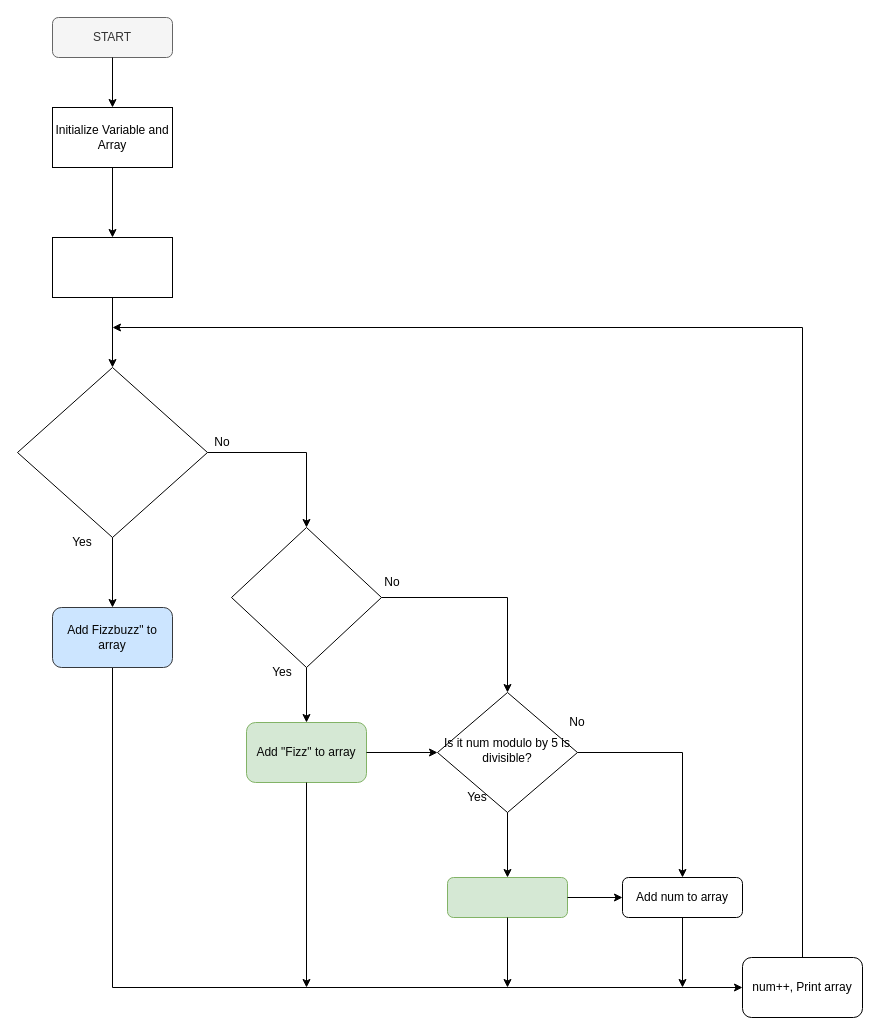
The diagram is 880 pixels wide and 1035 high, and some of its shapes have lost their labels. Here are the shapes that lost their labels. From the top down, the box of each, then its label:
(52, 236, 172, 298): Create Fizbuzz function
(16, 366, 208, 538): Is it num modulo by 3 and 5 is divisible?
(230, 526, 382, 668): Is it num modulo by 3 is divisible?
(446, 876, 568, 918): Add "Buzz" to array
